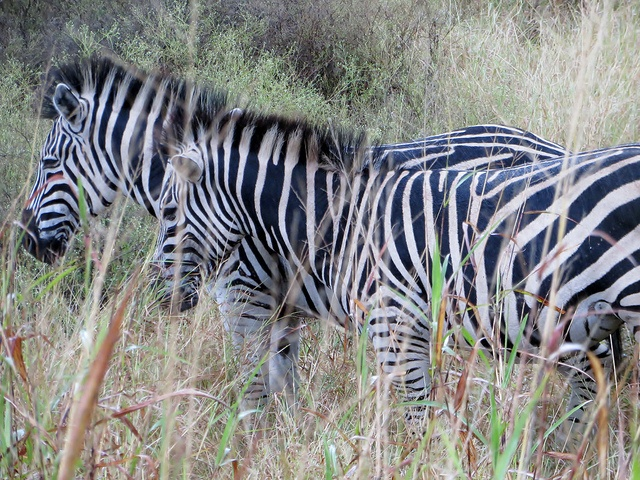zebra: (152, 112, 640, 462), (20, 49, 571, 262)
